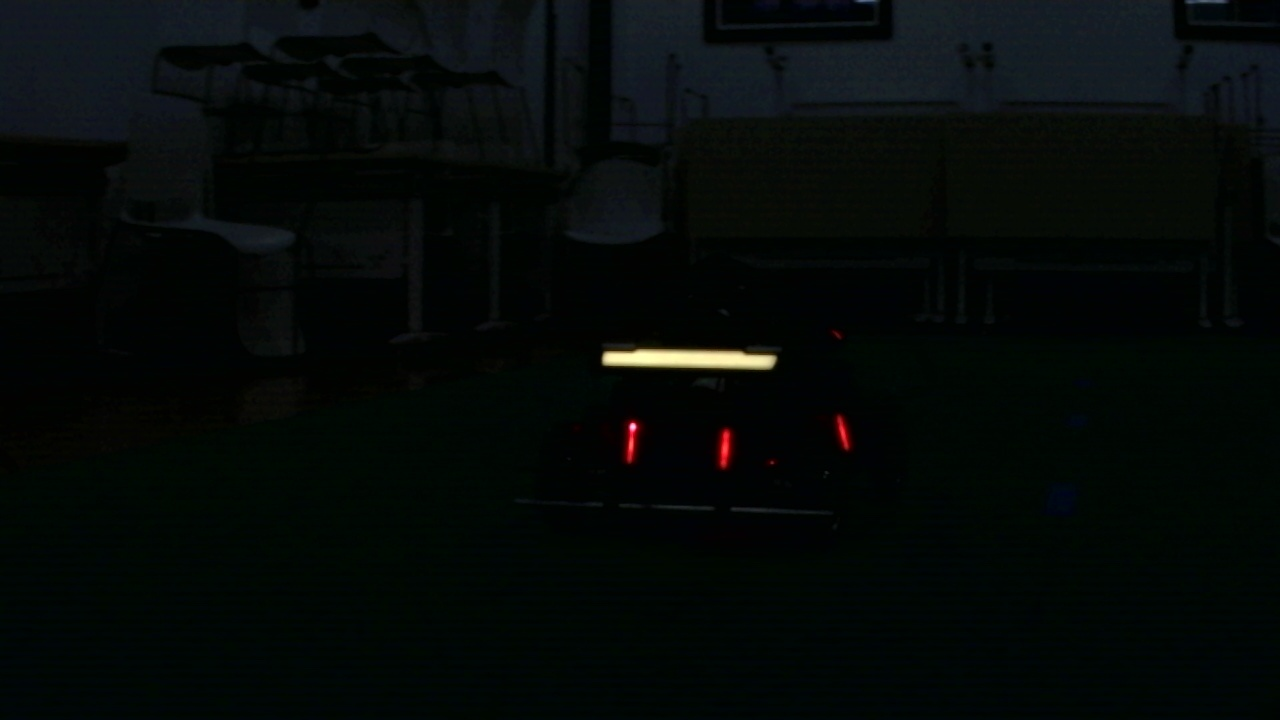lamp: (622, 419, 644, 462), (720, 426, 735, 471), (833, 412, 849, 446)
pair1: (626, 421, 731, 465)
